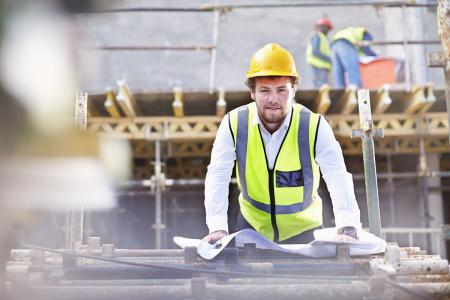gloves: (336, 226, 357, 241)
hard-hat: (246, 43, 299, 81), (315, 18, 333, 30)
person: (201, 43, 363, 246), (329, 26, 378, 89), (305, 18, 333, 88)
vest: (203, 100, 335, 230), (333, 27, 369, 54), (307, 31, 330, 73)
